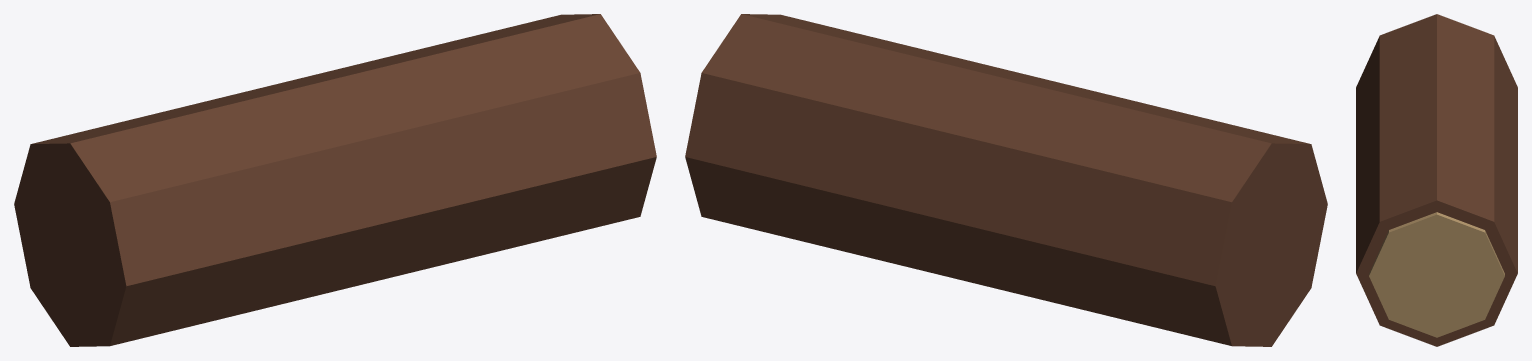
The picture shows the model from 3 angles, left to right: view 1: azimuth 30°, elevation 25°; view 2: azimuth 150°, elevation 25°; view 3: azimuth 270°, elevation 25°; orthographic projection. The views are drawn at different scales.
Visible parts, largest first — view 1: C06_横放原木; view 2: C06_横放原木; view 3: C06_横放原木.
Part boxes in pixels (<box>): C06_横放原木: <box>14,14,656,346</box>; C06_横放原木: <box>685,14,1327,346</box>; C06_横放原木: <box>1356,14,1517,346</box>.
Size of the model in its own units: 1.22 by 0.44 by 0.44.
